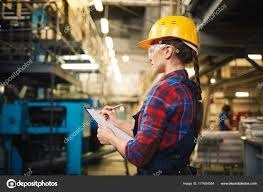helmet: (134, 14, 202, 54)
person with partial safety: (124, 16, 201, 174)
